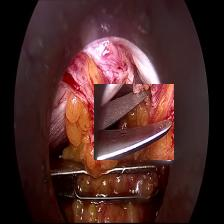Grasper: (48, 163, 164, 205)
Scissors: (94, 84, 174, 160)
